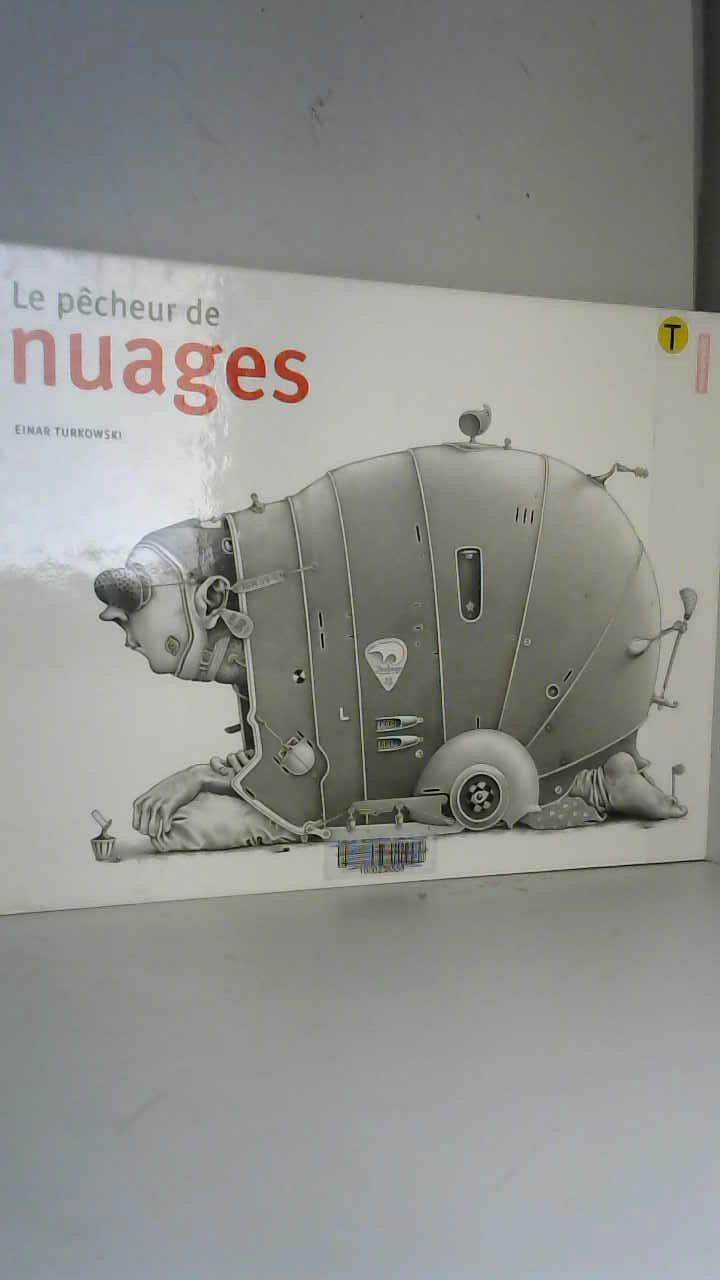book: (1, 231, 720, 940)
